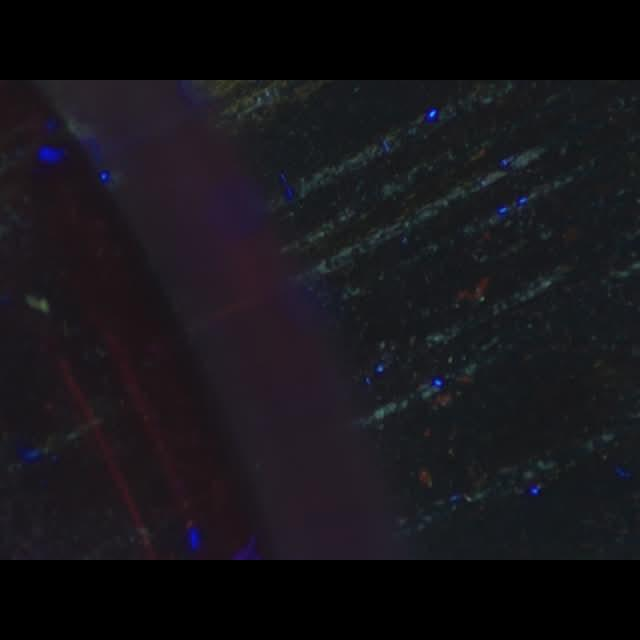microbeads: (24, 294, 50, 312)
